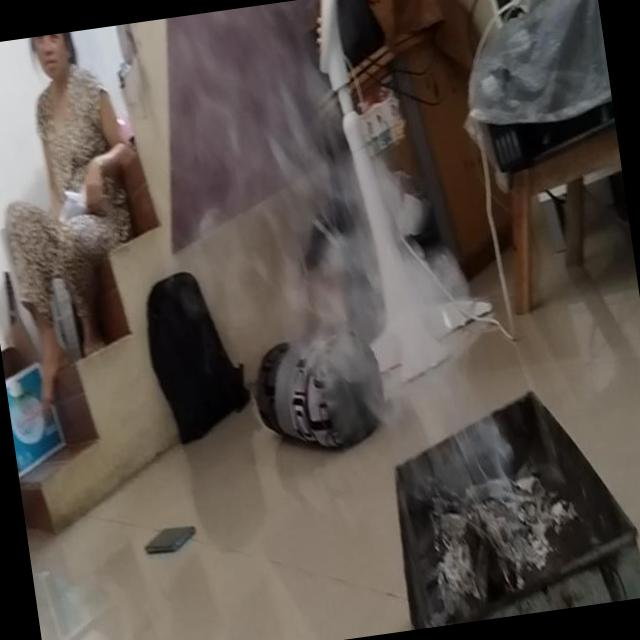smoke: (183, 50, 412, 318), (370, 317, 550, 596)
